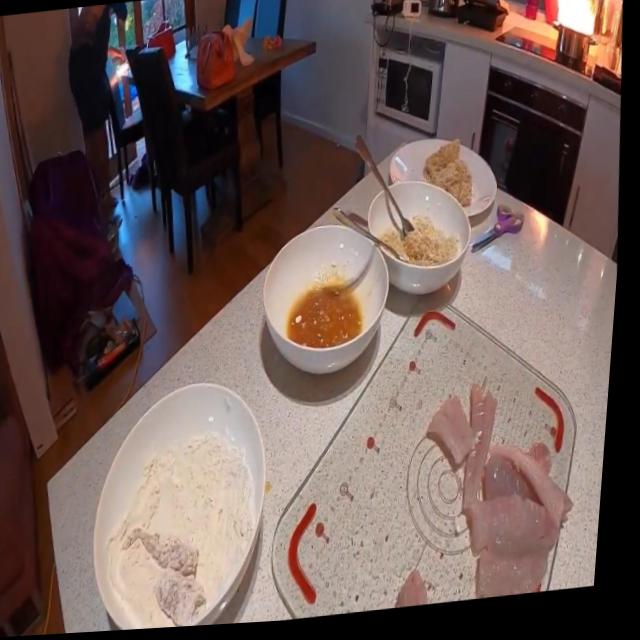fire: (550, 0, 604, 53), (107, 57, 132, 93)
